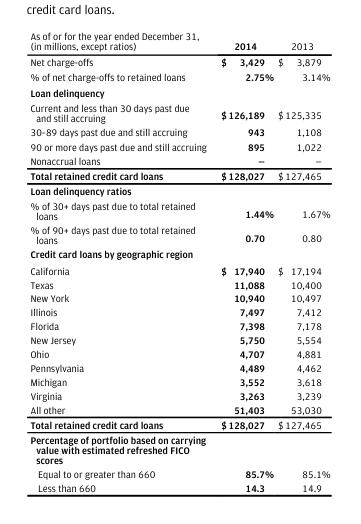table: (29, 29, 329, 493)
table column: (29, 29, 212, 493), (212, 29, 275, 493), (275, 29, 329, 493)
table column header: (29, 29, 329, 53)
table projected row header: (29, 431, 329, 466), (29, 182, 329, 198), (29, 84, 329, 99), (29, 246, 329, 261)
table row: (29, 431, 329, 466), (29, 99, 329, 124), (29, 29, 329, 53), (29, 198, 329, 222), (29, 222, 329, 246), (29, 53, 329, 69), (29, 182, 329, 198), (29, 69, 329, 84), (29, 84, 329, 99), (29, 138, 329, 153), (29, 167, 329, 182), (29, 246, 329, 261), (29, 261, 329, 276), (29, 401, 329, 416), (29, 416, 329, 431), (29, 124, 329, 138), (29, 153, 329, 167), (29, 276, 329, 290), (29, 290, 329, 304), (29, 304, 329, 318), (29, 318, 329, 332), (29, 332, 329, 346), (29, 346, 329, 360), (29, 360, 329, 374), (29, 374, 329, 388), (29, 466, 329, 480), (29, 388, 329, 401), (29, 480, 329, 493)
